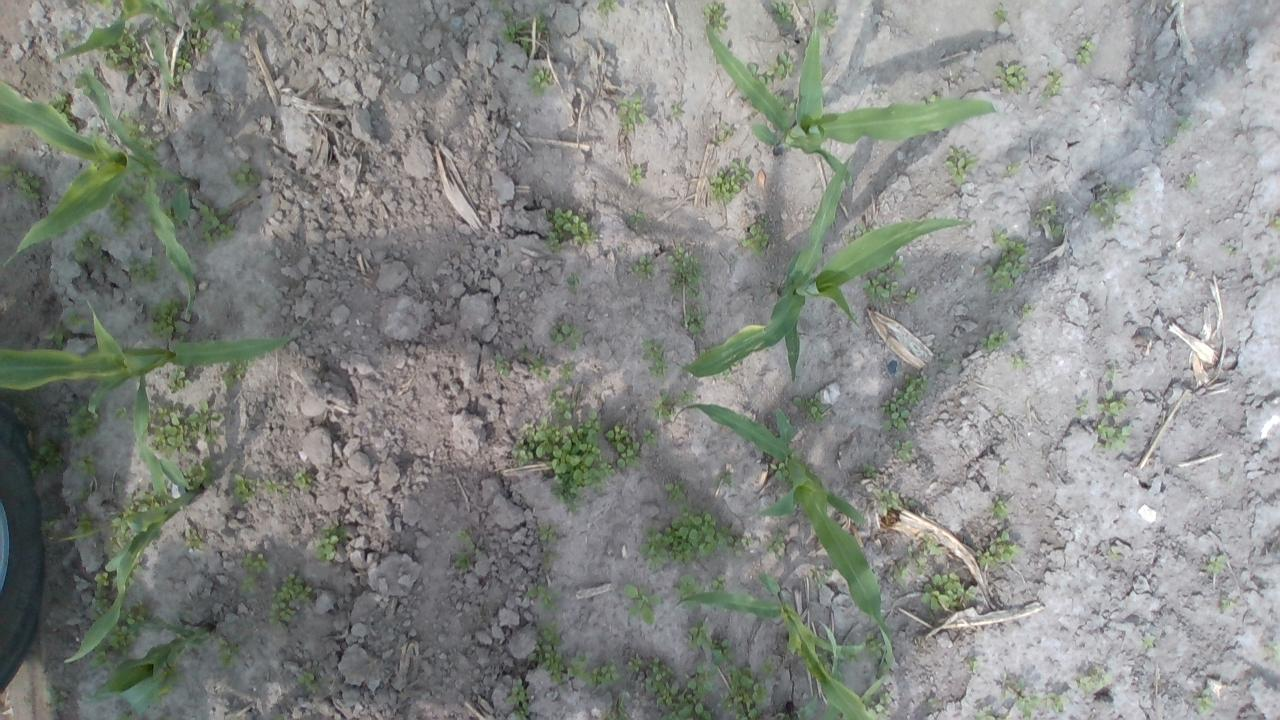Maize: (676, 400, 896, 703), (677, 152, 964, 382), (702, 10, 996, 185), (0, 66, 200, 292), (64, 373, 204, 668), (0, 301, 294, 418), (674, 566, 881, 720), (55, 0, 194, 91), (90, 611, 211, 705), (776, 616, 846, 720)
Weeds: (511, 412, 615, 516), (622, 651, 718, 720), (640, 512, 732, 570), (87, 600, 148, 670), (984, 226, 1030, 298), (718, 665, 769, 720), (878, 374, 928, 430), (104, 174, 149, 234), (190, 0, 248, 44), (145, 404, 193, 457), (268, 573, 316, 626), (540, 207, 599, 250), (118, 109, 162, 162), (528, 624, 566, 685), (920, 572, 977, 610), (101, 21, 141, 74), (976, 528, 1024, 571), (709, 159, 751, 205), (568, 652, 618, 690), (23, 433, 64, 479), (669, 246, 705, 298), (624, 582, 664, 628), (197, 202, 236, 248), (42, 312, 90, 349), (604, 422, 640, 470), (1088, 185, 1132, 224), (172, 29, 210, 74), (814, 643, 858, 679), (189, 400, 226, 442), (148, 296, 184, 336), (942, 144, 976, 184), (64, 405, 100, 441), (70, 228, 108, 262), (1013, 674, 1041, 720), (1033, 200, 1065, 240), (791, 391, 832, 422), (863, 631, 890, 678), (104, 514, 134, 556), (742, 214, 772, 256), (616, 91, 650, 128), (860, 270, 899, 302), (992, 62, 1028, 96), (640, 337, 670, 377), (1095, 420, 1135, 450), (238, 557, 272, 592), (894, 545, 924, 584), (180, 458, 218, 488), (312, 526, 343, 562), (860, 688, 894, 720), (548, 322, 584, 352), (128, 256, 164, 284), (677, 574, 705, 610), (546, 387, 576, 420), (661, 478, 690, 512), (678, 302, 706, 337), (494, 18, 529, 46), (92, 570, 115, 612), (14, 171, 44, 203), (519, 348, 549, 380), (1098, 386, 1128, 418), (213, 636, 242, 669), (508, 677, 530, 720), (226, 164, 262, 190), (526, 584, 562, 610), (70, 447, 98, 479), (684, 618, 712, 650), (702, 0, 729, 33), (222, 359, 253, 387), (230, 472, 256, 504), (768, 458, 794, 490), (709, 638, 737, 667), (773, 52, 800, 82), (525, 69, 554, 96), (746, 62, 775, 88), (124, 489, 158, 511), (74, 511, 98, 542), (1077, 668, 1108, 692), (1042, 70, 1064, 103), (978, 327, 1008, 351), (771, 92, 799, 117), (650, 390, 674, 419), (167, 368, 193, 393), (770, 0, 793, 28), (1072, 38, 1095, 66), (1194, 688, 1216, 716), (633, 254, 657, 279), (125, 556, 142, 590), (920, 534, 944, 558), (765, 528, 787, 554), (1204, 553, 1230, 574), (1044, 690, 1066, 714), (877, 488, 902, 509), (296, 669, 320, 690), (814, 8, 838, 28), (894, 439, 916, 460), (886, 254, 907, 276), (44, 91, 68, 110), (990, 500, 1010, 522), (713, 124, 732, 147), (971, 705, 1000, 720), (494, 353, 512, 377), (720, 357, 741, 377), (732, 535, 751, 557), (759, 655, 777, 678), (712, 470, 736, 487), (676, 386, 696, 406), (709, 574, 728, 595), (46, 686, 64, 708), (596, 0, 620, 16), (451, 548, 469, 569), (538, 523, 557, 542), (184, 534, 204, 552), (641, 429, 659, 449), (814, 569, 832, 588), (901, 286, 920, 304), (862, 463, 882, 480), (856, 222, 878, 236), (1176, 116, 1194, 133), (629, 165, 644, 185), (39, 517, 58, 532), (630, 211, 646, 228), (112, 405, 130, 420), (1184, 175, 1202, 190), (560, 364, 572, 386), (83, 0, 112, 9), (534, 14, 547, 34), (0, 162, 16, 178), (803, 464, 819, 480), (456, 526, 470, 544), (74, 487, 90, 502), (918, 93, 938, 105), (1009, 356, 1025, 369), (993, 10, 1010, 22), (292, 472, 307, 485), (1218, 598, 1234, 610), (264, 478, 275, 495), (1077, 402, 1089, 417), (968, 655, 978, 672), (1142, 636, 1156, 648), (1006, 164, 1019, 176), (522, 40, 532, 55), (61, 30, 74, 41), (1021, 303, 1032, 316), (118, 712, 133, 720), (1166, 136, 1176, 146), (927, 697, 936, 705), (671, 105, 680, 112)
